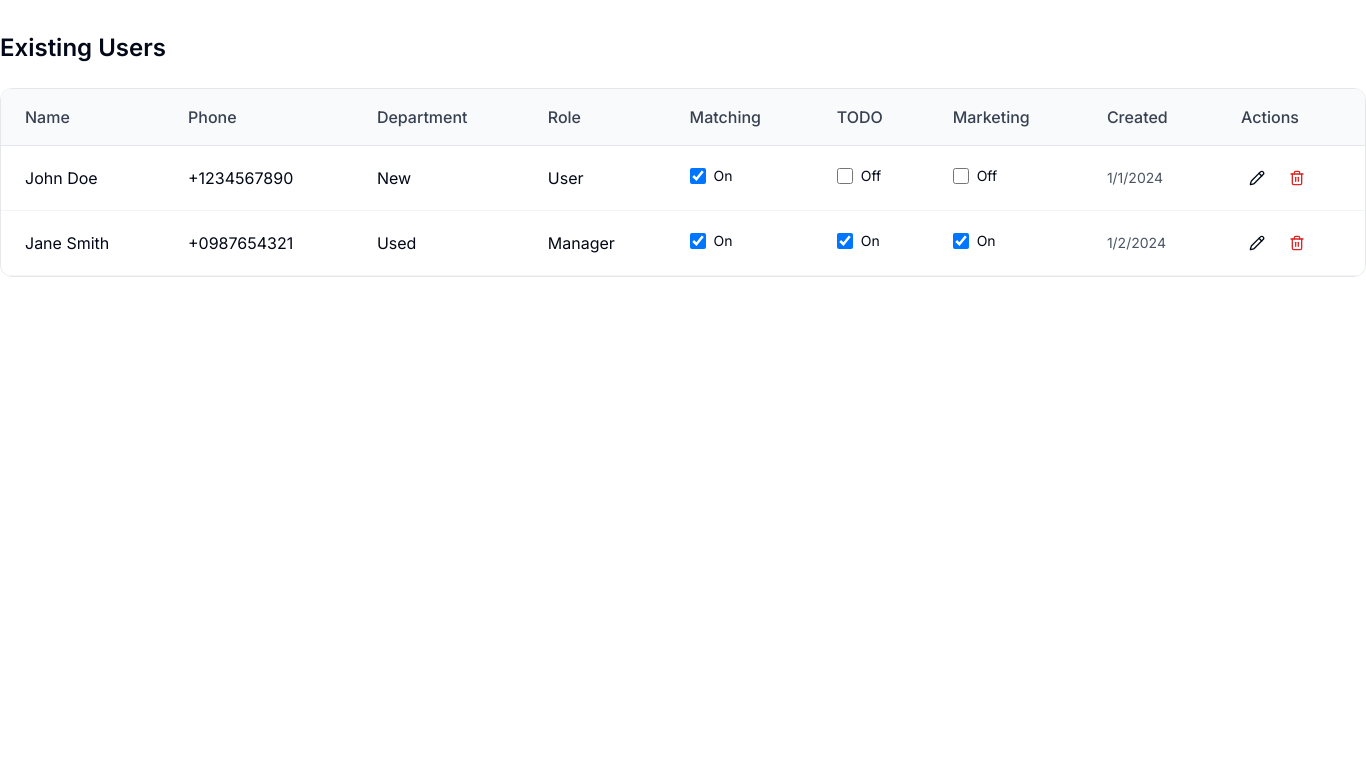
Scenario: UserList Component › Delete User › should close dialog when cancel clicked
This screenshot has width=1366, height=768.
Expected: the text "John Doe" is shown, [1,146,164,210]
Click the button titled "Delete user" in the row of "John".
click(1297, 178)  # box [1281,162,1313,194]
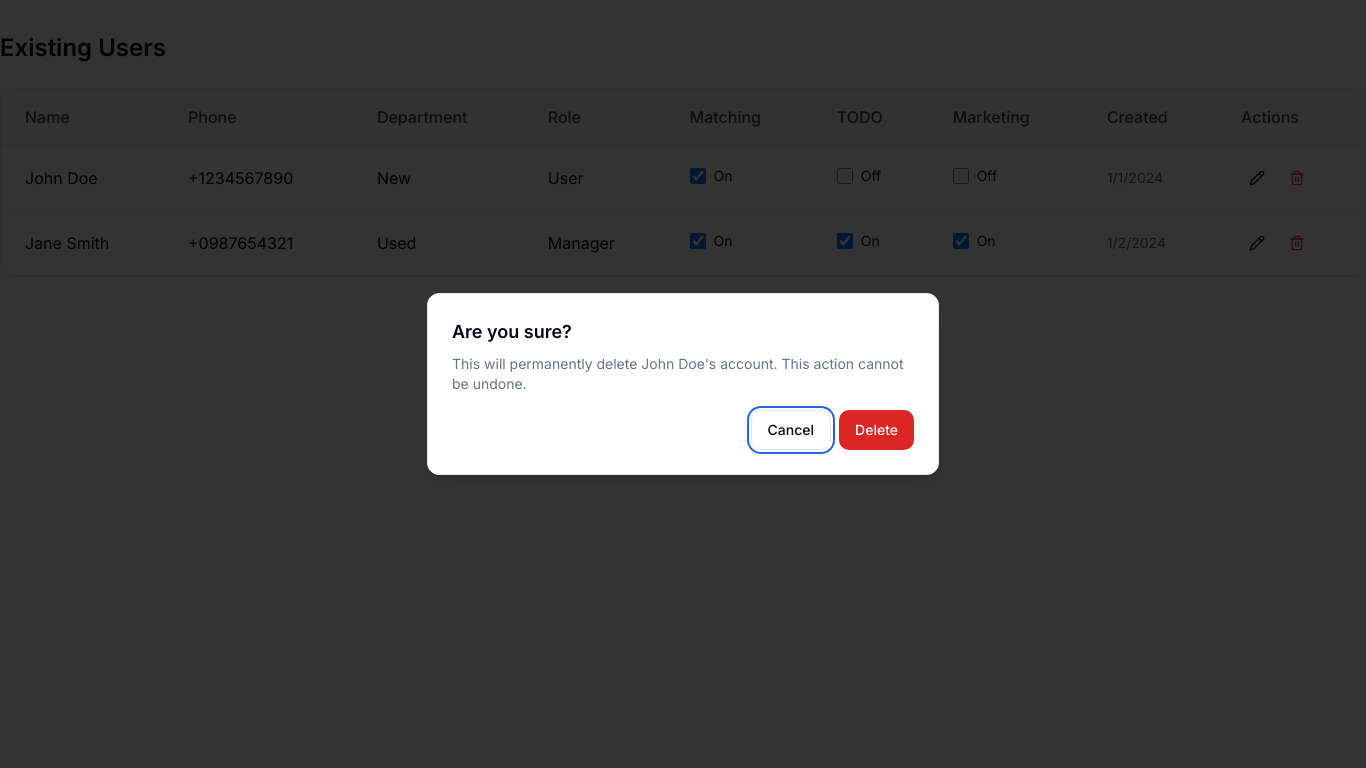
Expected: the heading "Are you sure?" is shown, [452,321,572,342]
Click the button "Cancel".
click(791, 430)  # box [751,410,831,450]
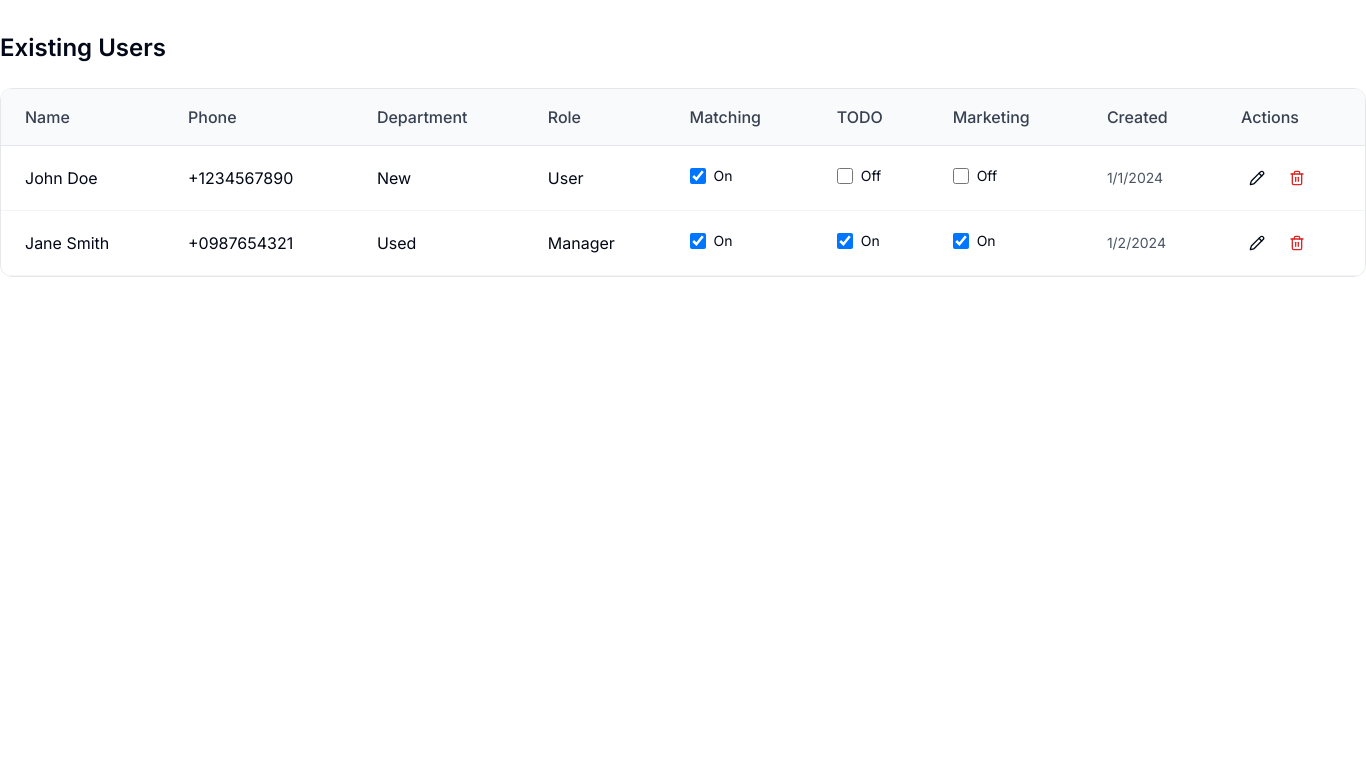
Expected: the heading "Are you sure?" is gone
